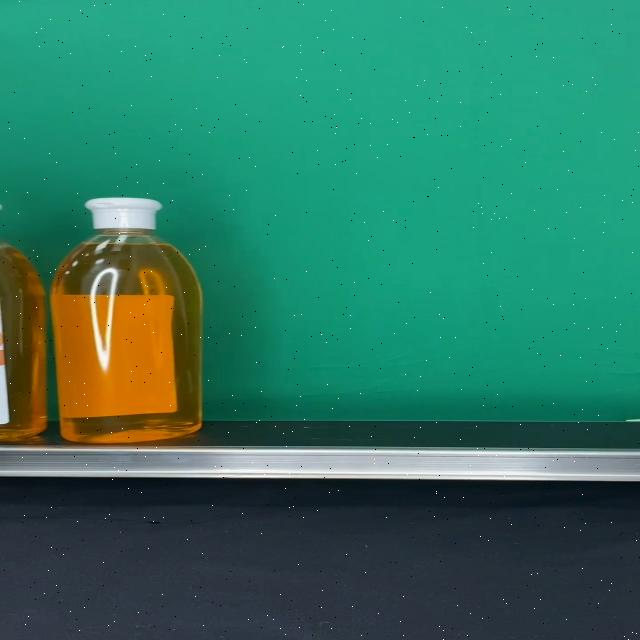Bottle: (51, 198, 201, 444)
Cap: (84, 198, 162, 230)
